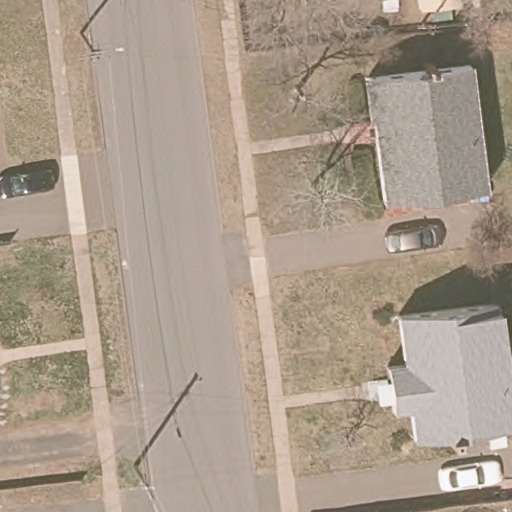DT: (128, 463, 158, 503), (76, 31, 108, 63)
